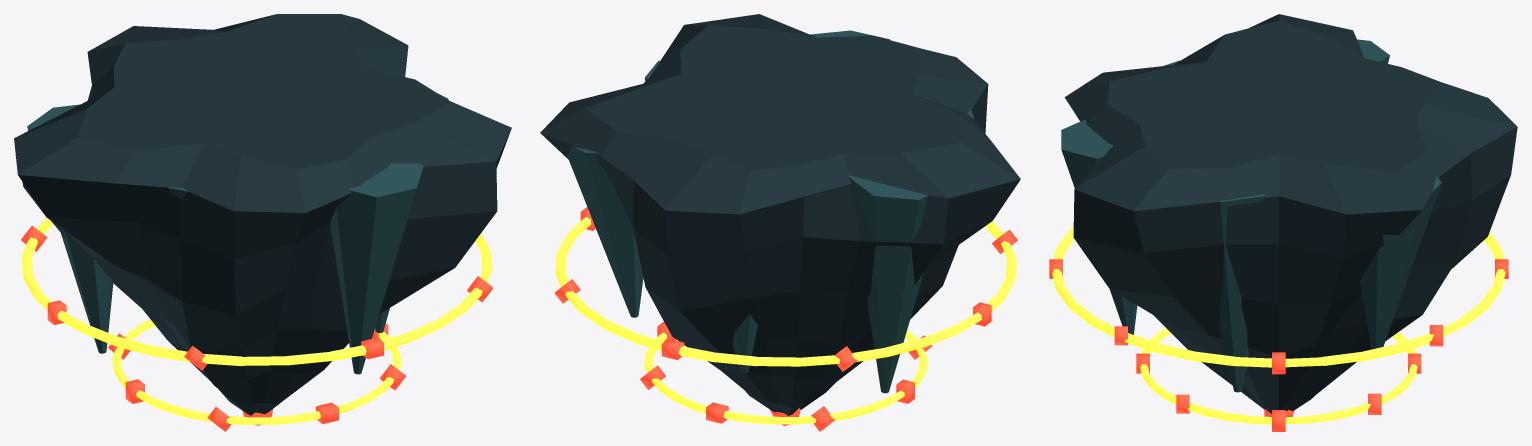
The model's file is v086_mirror_yanshan.glb.
The picture shows the model from 3 angles, left to right: view 1: azimuth 30°, elevation 25°; view 2: azimuth 150°, elevation 25°; view 3: azimuth 270°, elevation 25°; orthographic projection. The views are drawn at different scales.
Parts seen in each view (by area): view 1: mirror_yanshan_peak; view 2: mirror_yanshan_peak; view 3: mirror_yanshan_peak.
Part boxes in pixels (x1=…): mirror_yanshan_peak: x1=14, y1=14, x2=511, y2=431; mirror_yanshan_peak: x1=540, y1=14, x2=1020, y2=431; mirror_yanshan_peak: x1=1049, y1=14, x2=1517, y2=431.
Bounding box in the file's own units: 34.75 × 24.74 × 32.79.
